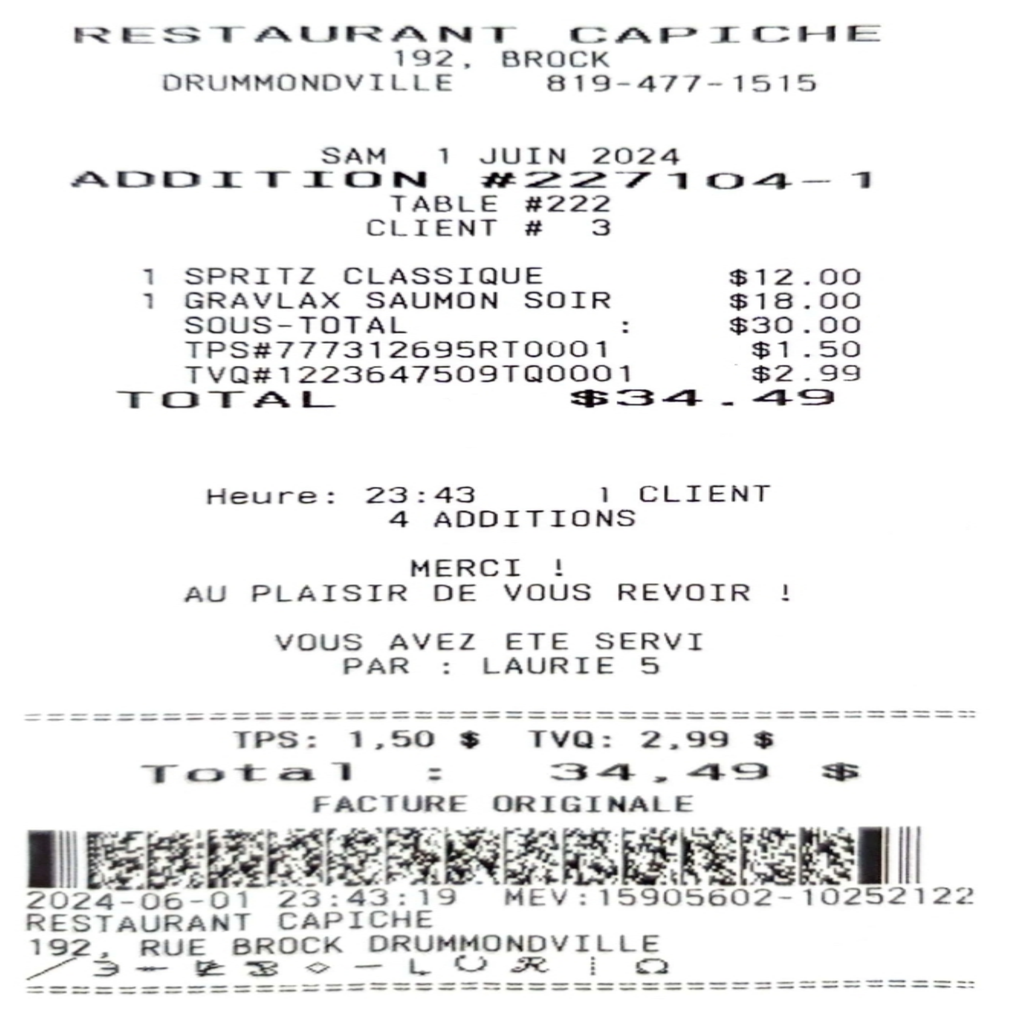recipt: (6, 0, 1018, 1016)
